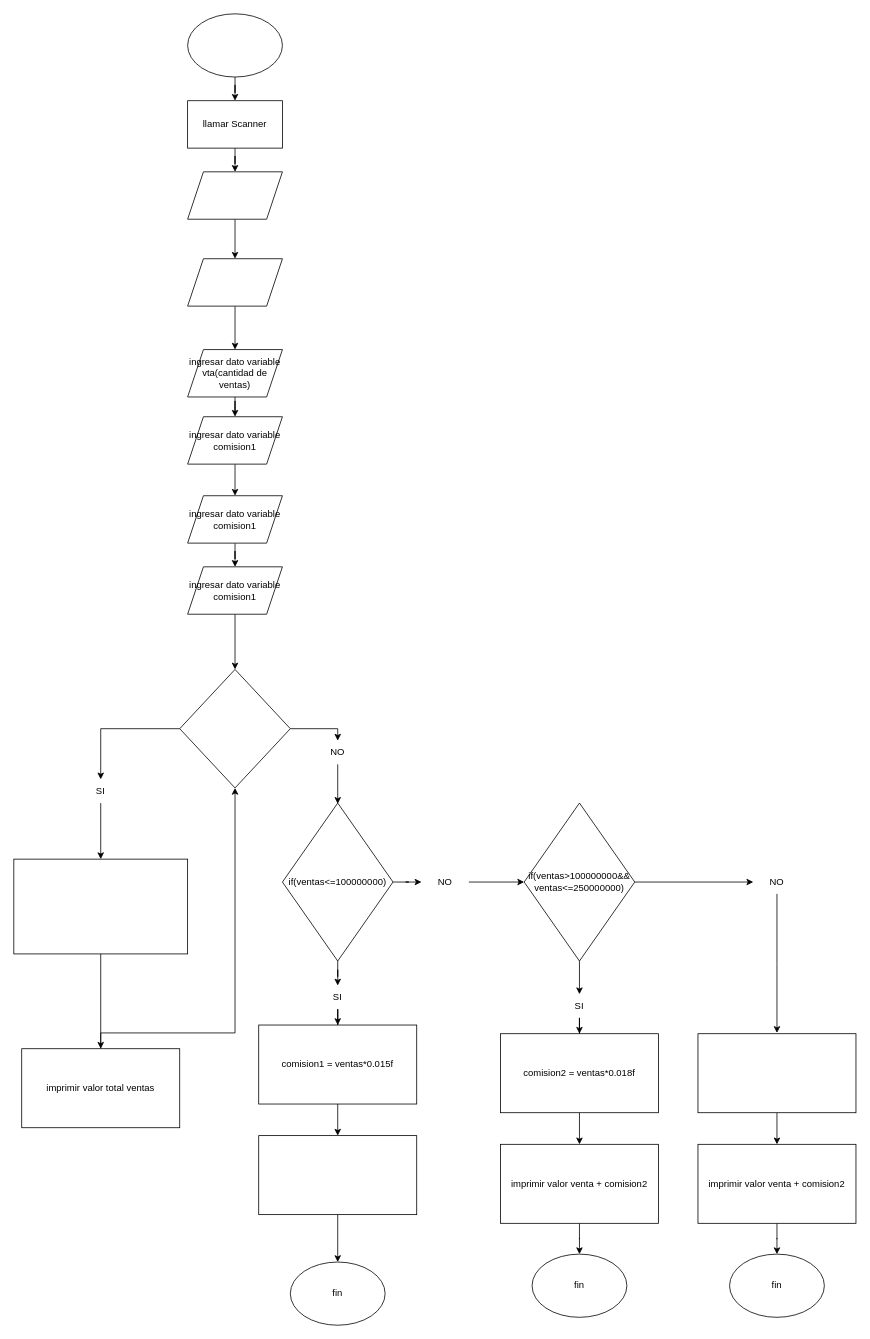
This 870x1339 diagram has some shape labels left out. The box of each missing label's shape, as (x1, y1, x2, y2) in pixels:
comision2 = ventas*0.023f: (697, 1033, 856, 1113)
imprimir valor venta + comision1: (258, 1135, 417, 1215)
ingresar dato variable cont (contador): (187, 171, 282, 219)
ingresar dato ventas: (187, 258, 282, 306)
inicio: (187, 13, 282, 77)
pedir valor venta(n) agrega valor a la variable ventas se incrementa un ciclo: (13, 858, 188, 954)
while (cont<=vta): (179, 669, 290, 788)
